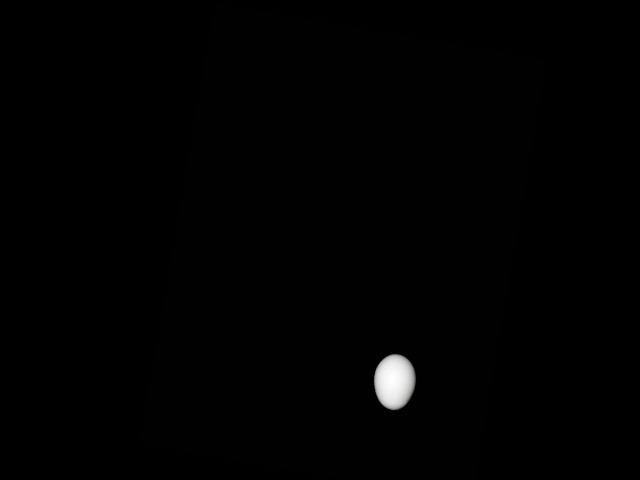egg: (369, 350, 419, 412)
